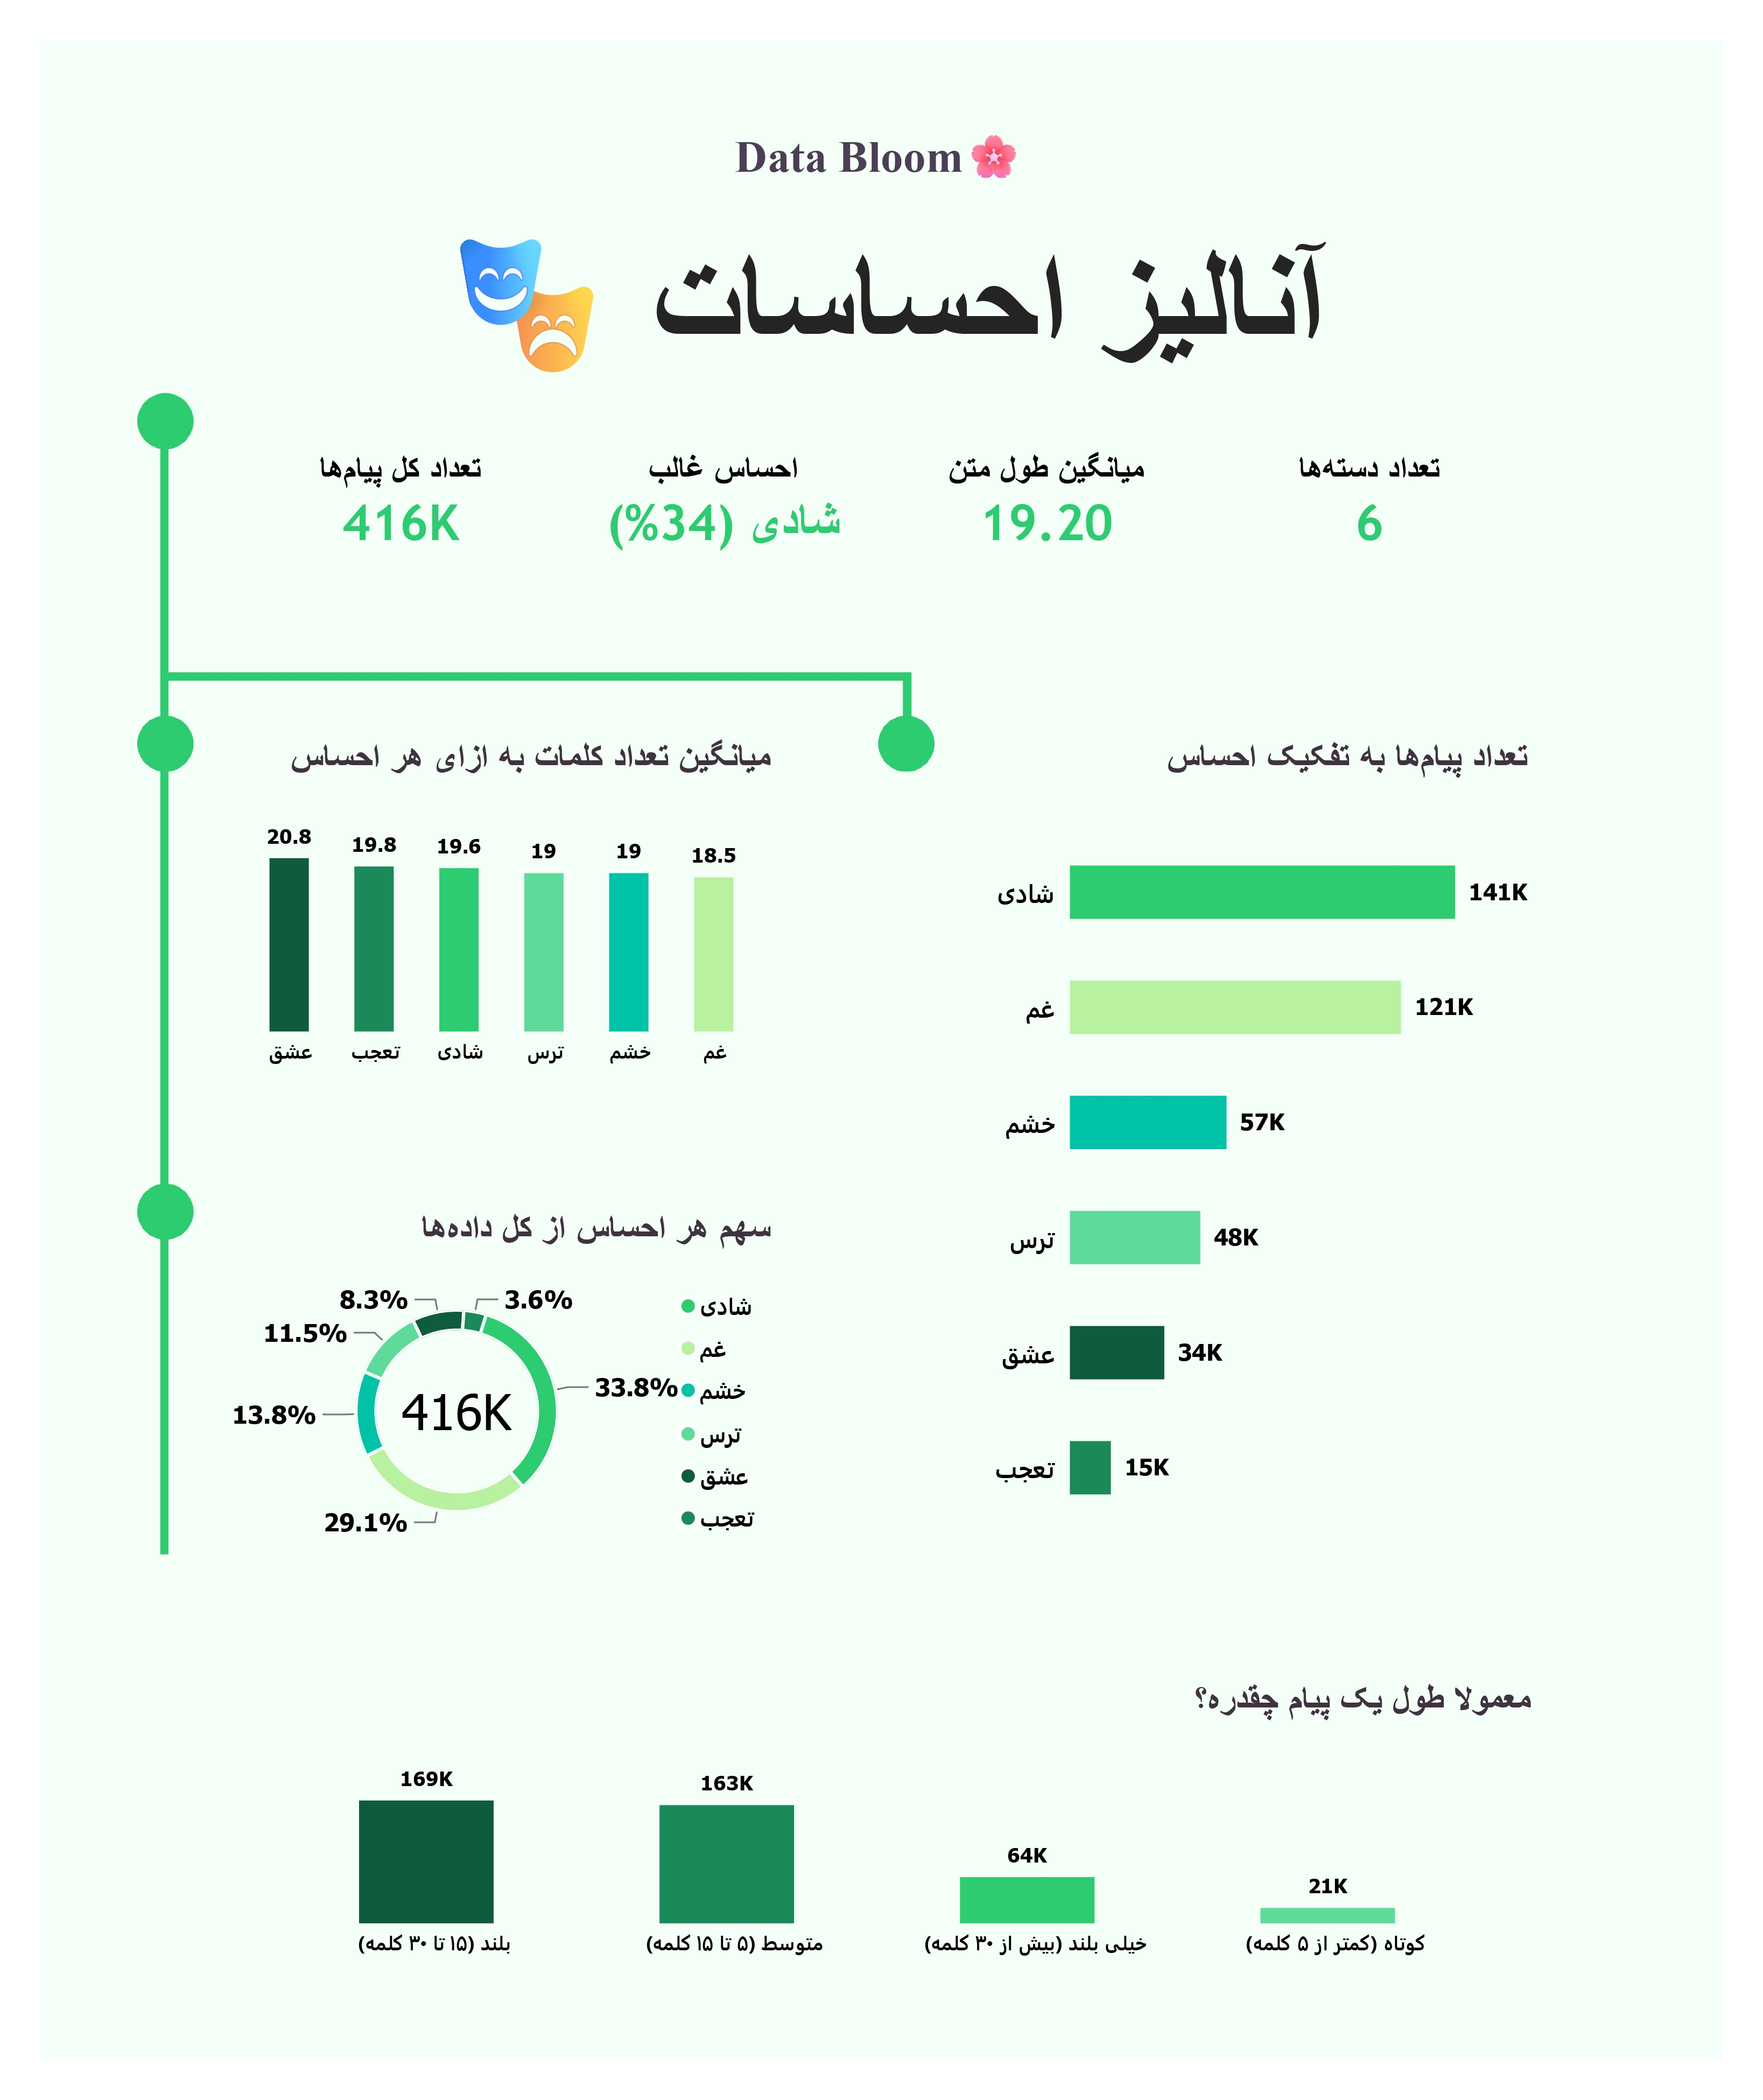

What the dashboard file says about the page in this screenshot:
{"tool":"powerbi","page":{"name":"Page 1","canvas":[1000,1200],"ordinal":0},"visuals":[{"type":"actionButton","box":[44.9,188.5,505.7,722.7],"z":0},{"type":"cardVisual","fields":{"Data":["Emotions.تعداد کل پیامها","Emotions.احساس غالب","Emotions.میانگین طول متن","Emotions.تعداد دستهها"]},"box":[102.3,175.9,799.6,200.4],"z":1000},{"type":"clusteredColumnChart","title":"میانگین تعداد کلمات به ازای هر احساس","fields":{"Category":["Emotions.احساس"],"Y":["Emotions.میانگین طول متن"]},"box":[100,400,350,230],"z":2000},{"type":"clusteredColumnChart","title":"معمولا طول یک پیام چقدره؟","fields":{"Category":["Emotions.بازه طول متن"],"Y":["Emotions.تعداد کل پیامها"]},"box":[102,960,800,200],"z":3000},{"type":"donutChart","title":"سهم هر احساس از کل دادهها","fields":{"Category":["Emotions.احساس"],"Y":["Emotions.تعداد کل پیامها"]},"box":[100,680,350,230],"z":4000},{"type":"clusteredBarChart","title":"تعداد پیامها به تفکیک احساس","fields":{"Category":["Emotions.احساس"],"Y":["Emotions.تعداد کل پیامها"]},"box":[550,400,350,510],"z":5000},{"type":"textbox","box":[400.8,49.1,196.3,51.1],"z":6000},{"type":"textbox","box":[100.2,100.2,799,161.6],"z":7000}]}

Visuals, with their boxes on the page's 1000x1200 design canvas (x1, y1, x2, y2). These are canvas units, not pixel positions in the 1763x2100 screenshot, which may show the page scaled, cropped or inside an application window:
actionButton: locate(45, 188, 551, 911)
cardVisual - Emotions.تعداد کل پیامها x Emotions.احساس غالب: locate(102, 176, 902, 376)
"میانگین تعداد کلمات به ازای هر احساس" clusteredColumnChart: locate(100, 400, 450, 630)
"معمولا طول یک پیام چقدره؟" clusteredColumnChart: locate(102, 960, 902, 1160)
"سهم هر احساس از کل دادهها" donutChart: locate(100, 680, 450, 910)
"تعداد پیامها به تفکیک احساس" clusteredBarChart: locate(550, 400, 900, 910)
textbox: locate(401, 49, 597, 100)
textbox: locate(100, 100, 899, 262)
